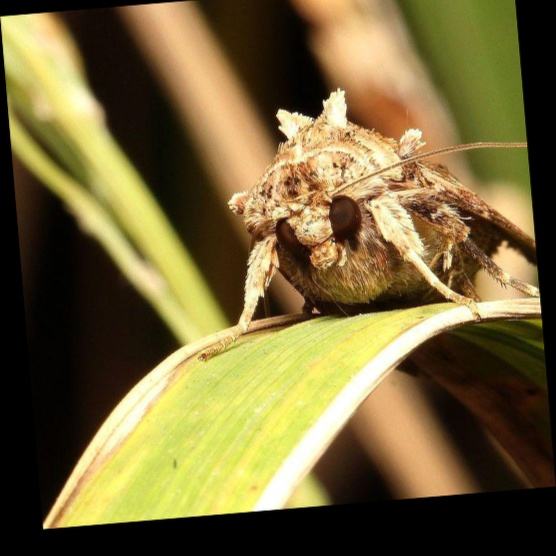Spodoptera litura: (187, 85, 532, 347)
